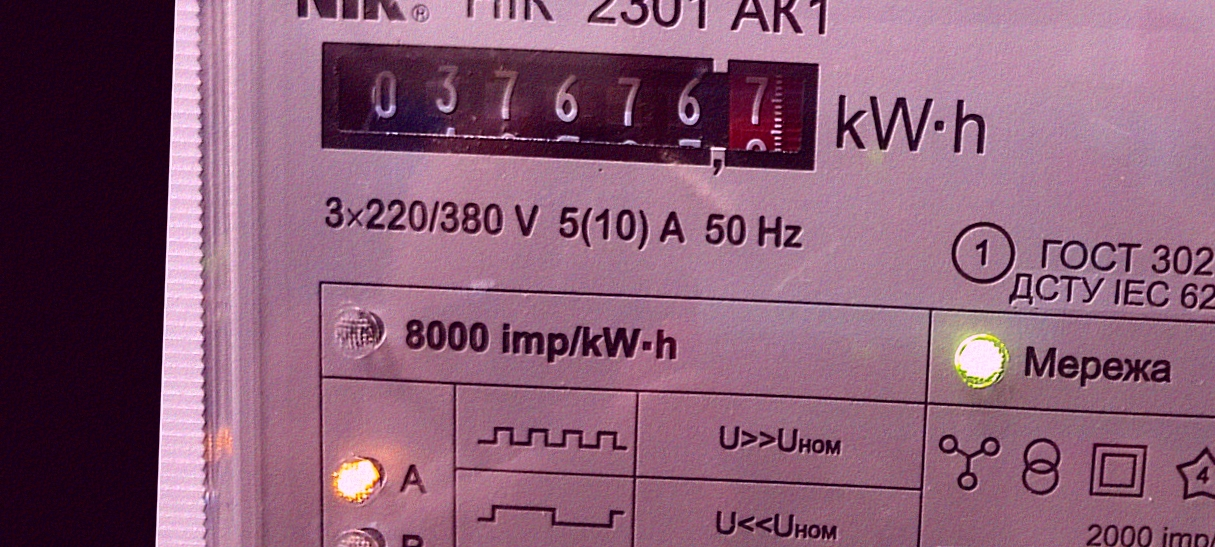0: (368, 65, 403, 121)
3: (431, 59, 461, 116)
6: (550, 68, 584, 124), (673, 72, 705, 128)
7: (611, 72, 644, 131), (489, 64, 522, 122), (741, 71, 771, 128)
screen: (302, 24, 836, 189)
